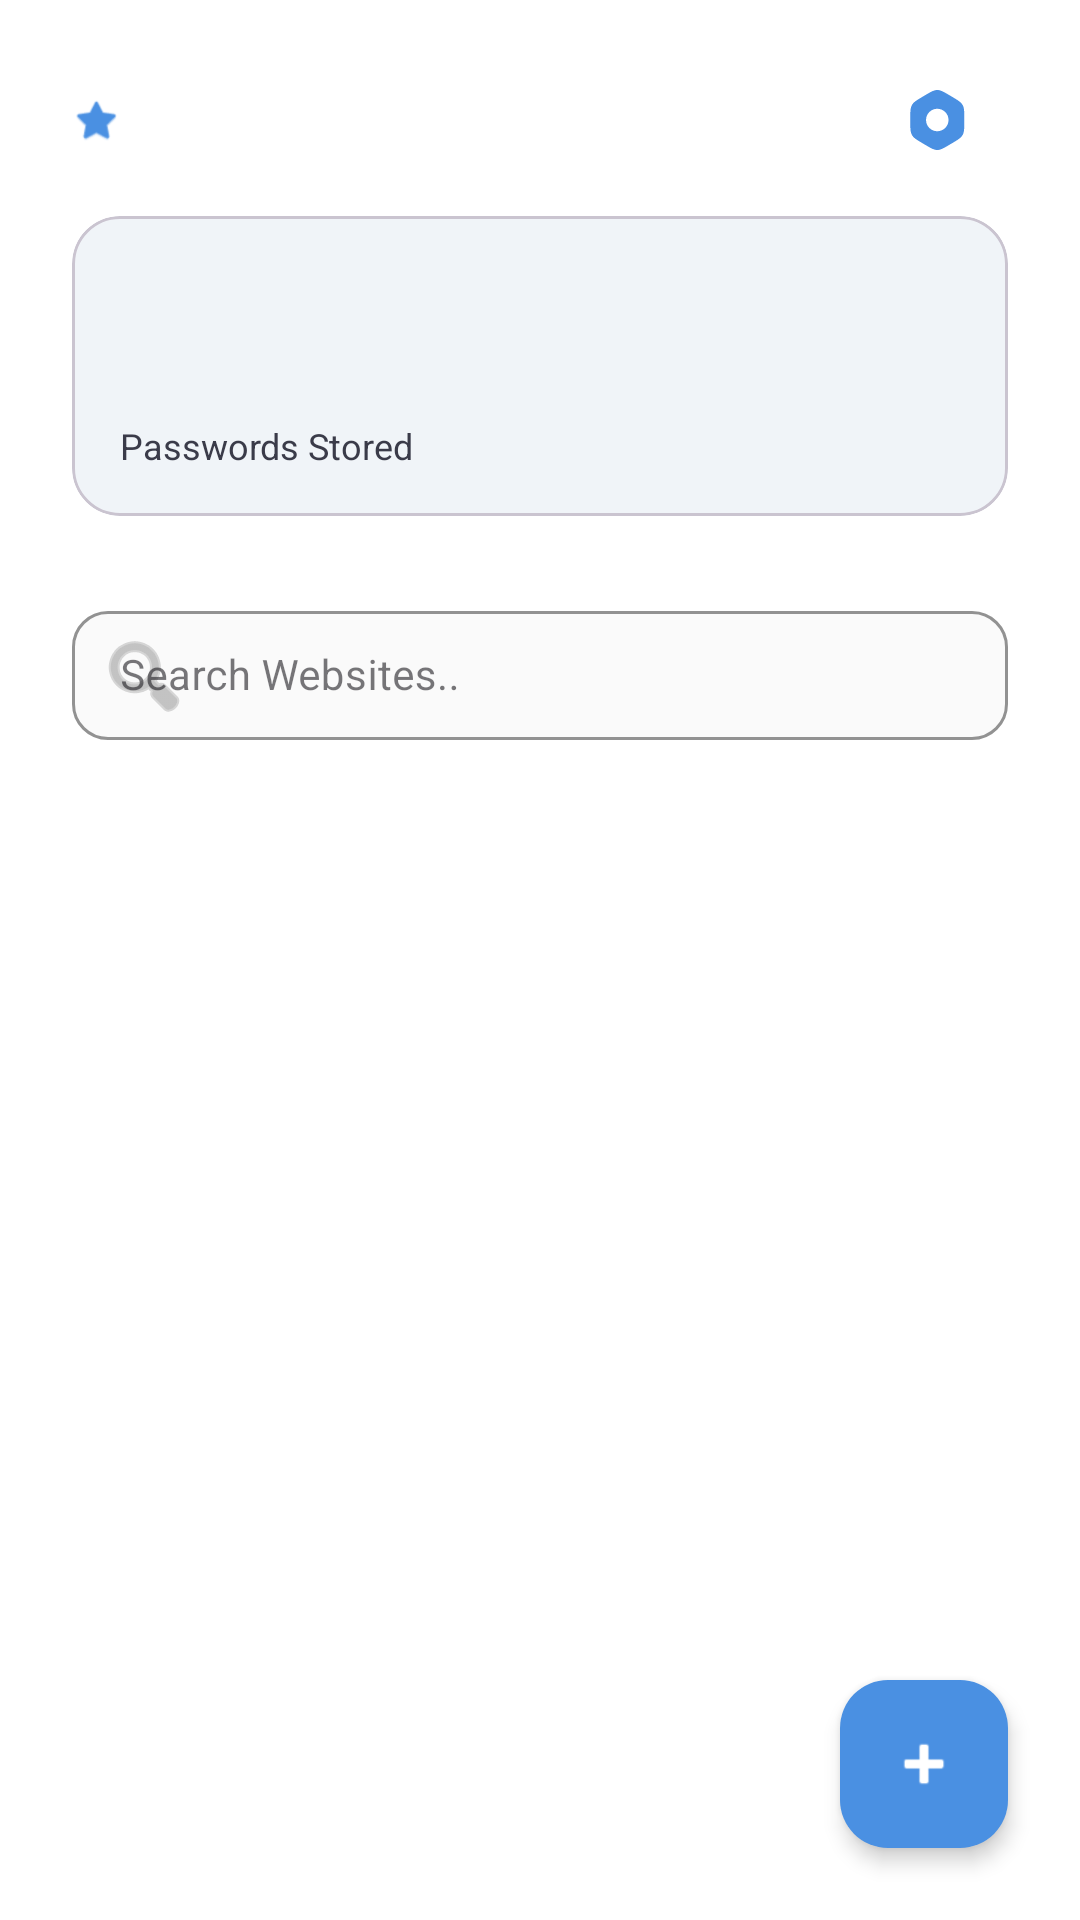

Icon bounding boxes for this 1080 x 1920 phone screenshot, format Rect(x1, y1, x2, y2):
Add New Password: Rect(840, 1680, 1008, 1848)
Settings: Rect(910, 90, 965, 150)
